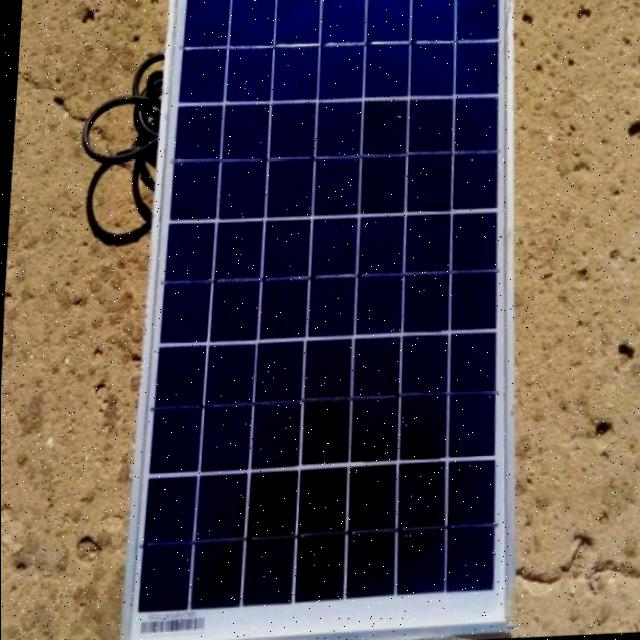Normal Solar Panel: (106, 0, 538, 640)
